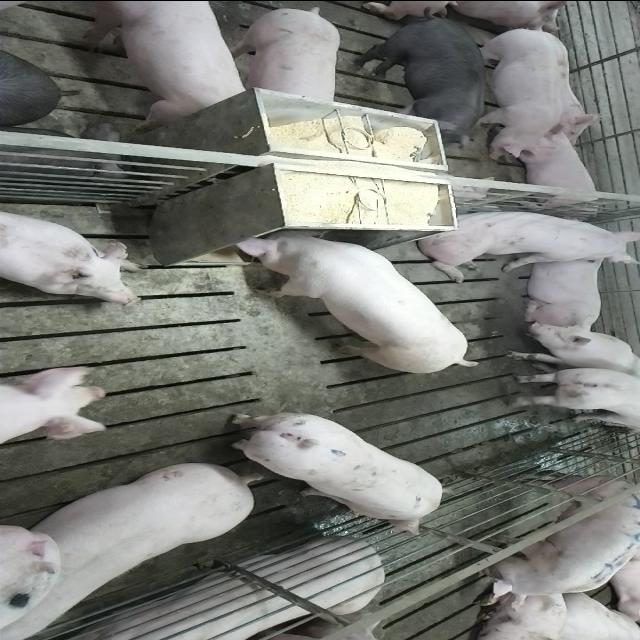Feeding: (230, 220, 478, 369)
Sitting: (410, 204, 636, 276), (500, 320, 638, 374)
Standing: (7, 456, 267, 634), (220, 411, 446, 537), (72, 1, 254, 124), (484, 476, 640, 613), (357, 15, 491, 144), (473, 24, 567, 160), (225, 6, 343, 108), (501, 366, 638, 436)
Sternal_lying: (61, 539, 385, 640), (0, 206, 144, 306), (0, 359, 110, 450), (508, 131, 608, 213), (518, 250, 606, 330)
